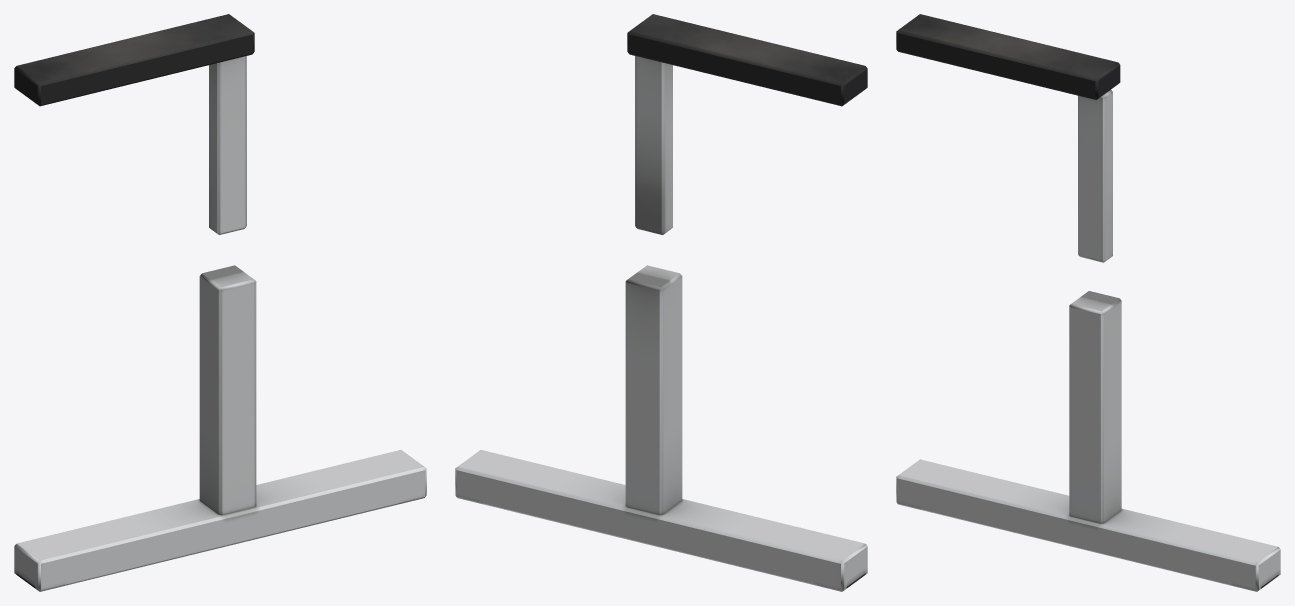
File: Seat_End.fbx
The picture shows the model from 3 angles, left to right: view 1: azimuth 30°, elevation 25°; view 2: azimuth 150°, elevation 25°; view 3: azimuth 330°, elevation 25°; orthographic projection. The views are drawn at different scales.
Visible parts, largest first — view 1: Seat_End_LOD0; view 2: Seat_End_LOD0; view 3: Seat_End_LOD0.
Boxes of the visible parts, x1,y1,x2,y2 form: Seat_End_LOD0: [14, 14, 426, 591]; Seat_End_LOD0: [455, 14, 867, 591]; Seat_End_LOD0: [896, 14, 1280, 591].
Size of what is drawn, in the model's own units: 0.52 by 0.65 by 0.06.
Materials: 1 (1 with a texture image).
